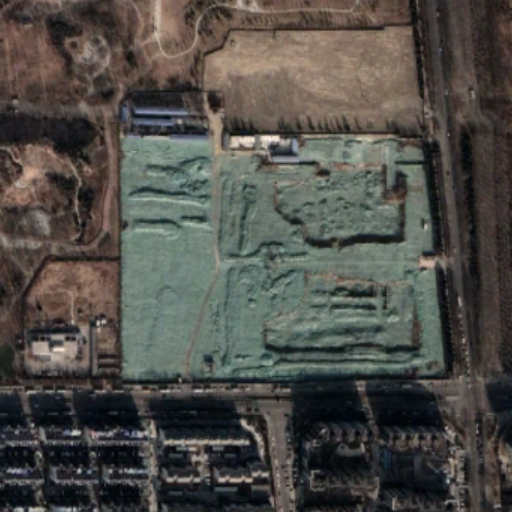cw: (115, 133, 455, 389)
